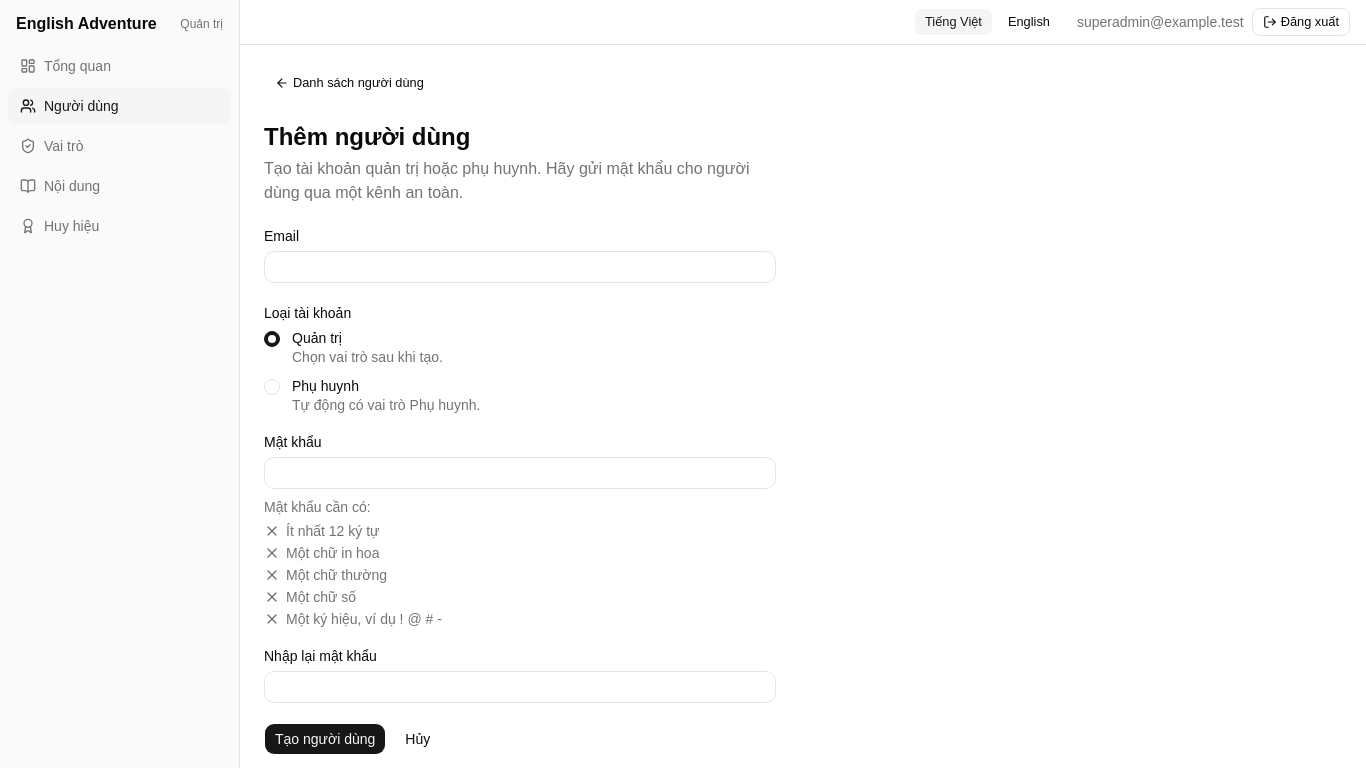
Test case: creating a user › creates a Parent user
Click the 2nd radio button named "Phụ huynh".
click(272, 387)  # box [264,379,280,395]
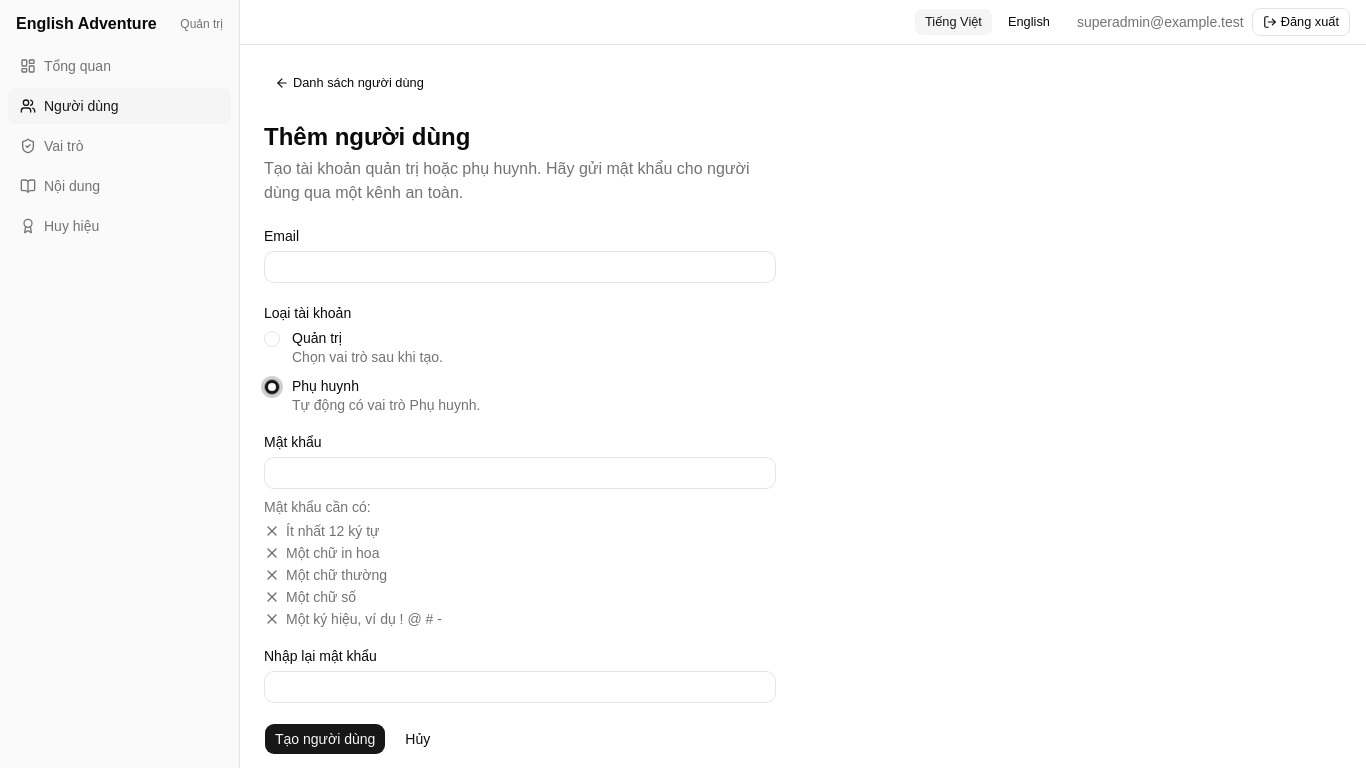
Type " new.admin@example.test " into the field labelled "Email".
click(520, 267); type(" new.admin@example.test ")  # box [264,251,776,283]
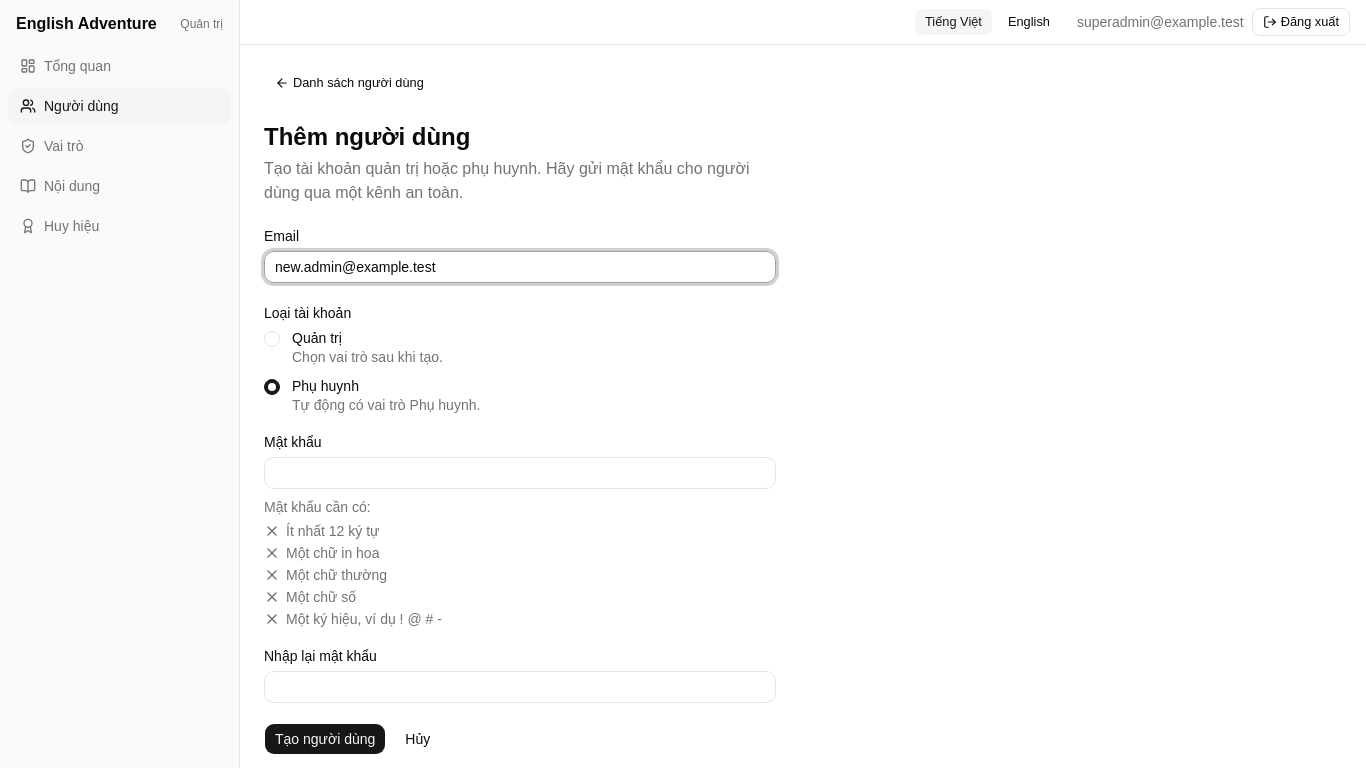
Type "Correct-horse-1" into the password field labelled "Mật khẩu".
click(520, 473); type("Correct-horse-1")  # box [264,457,776,489]
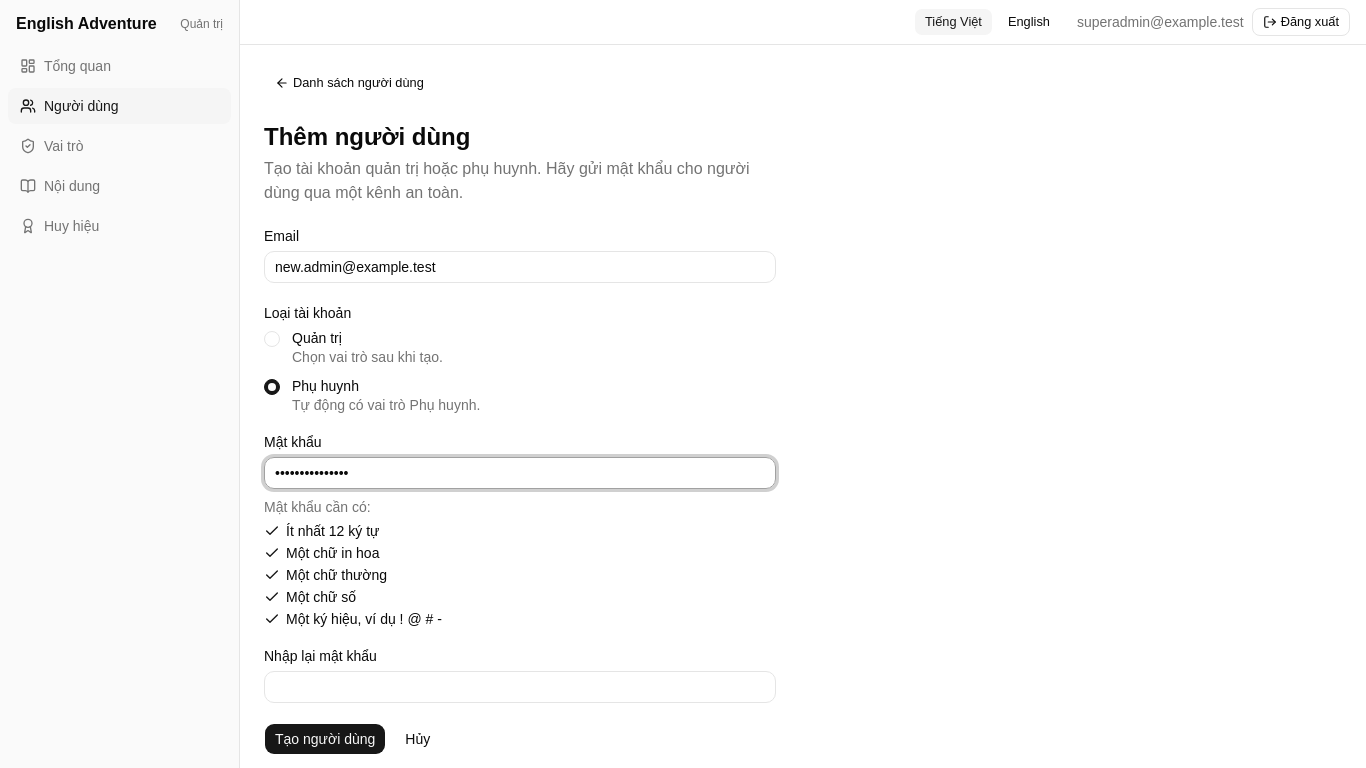
Type "Correct-horse-1" into the password field labelled "Nhập lại mật khẩu".
click(520, 687); type("Correct-horse-1")  # box [264,671,776,703]
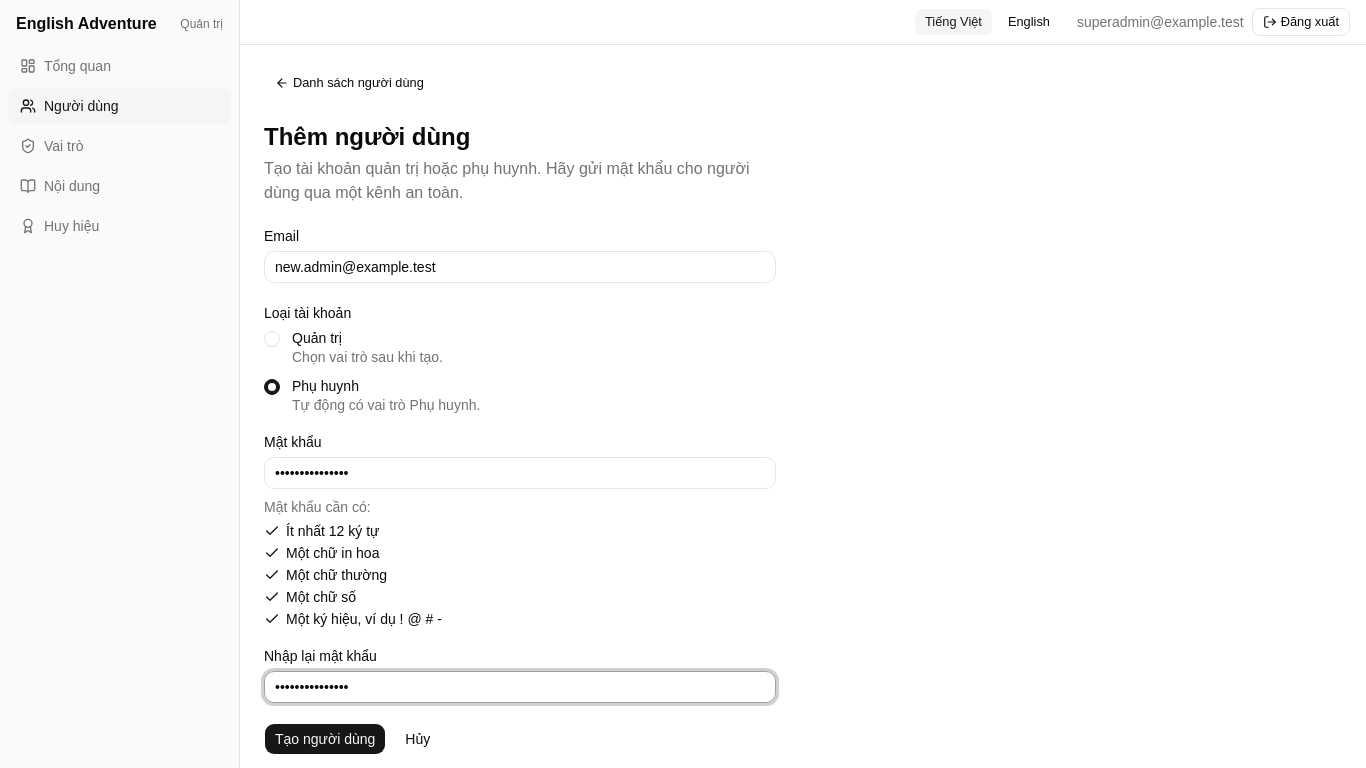
Click the button "Tạo người dùng".
click(325, 739)  # box [264,723,386,755]
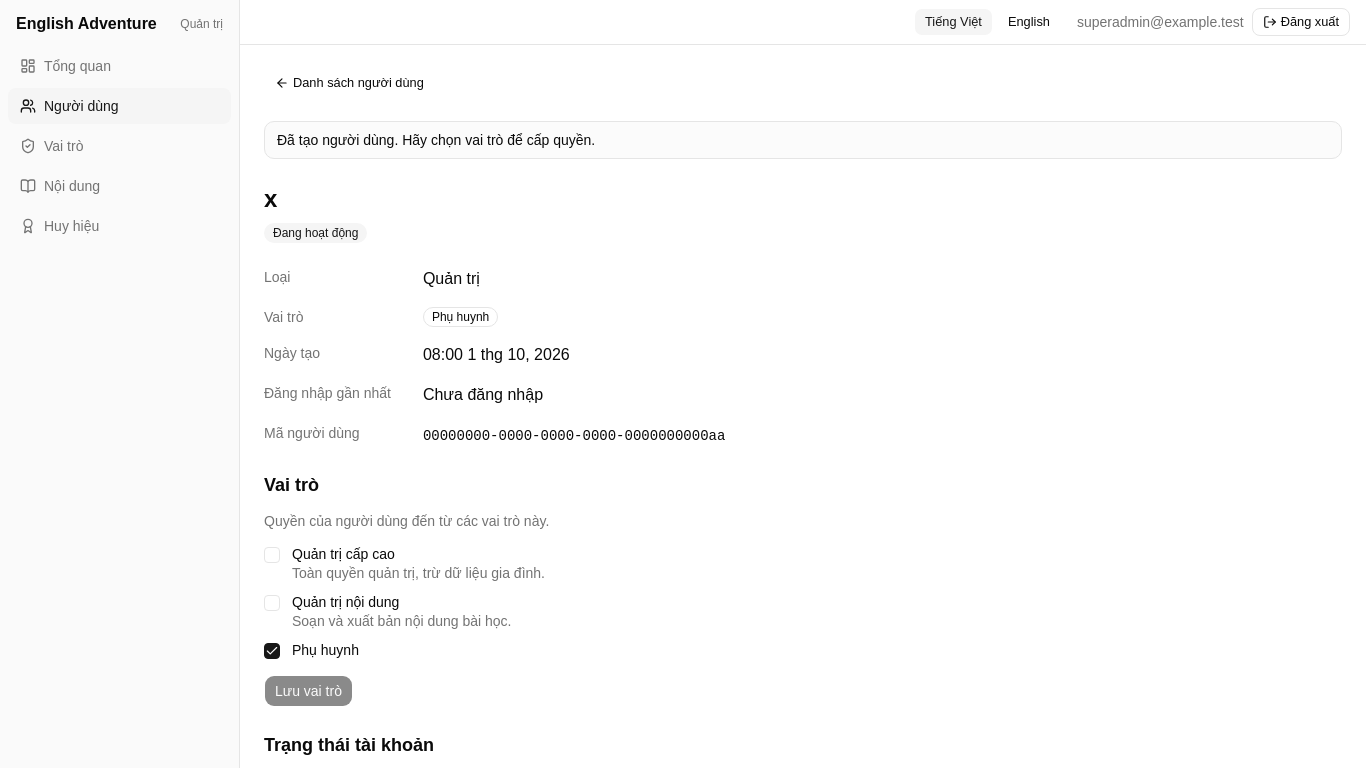
Check: the text "Đã tạo người dùng." is shown, box [277,132,595,148]
